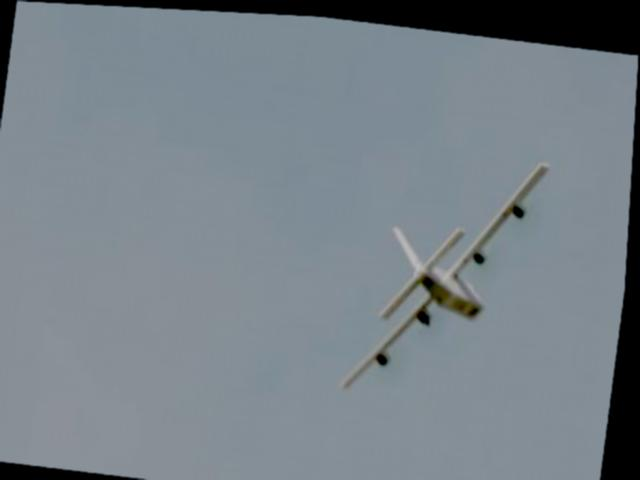uav: (341, 132, 552, 408)
